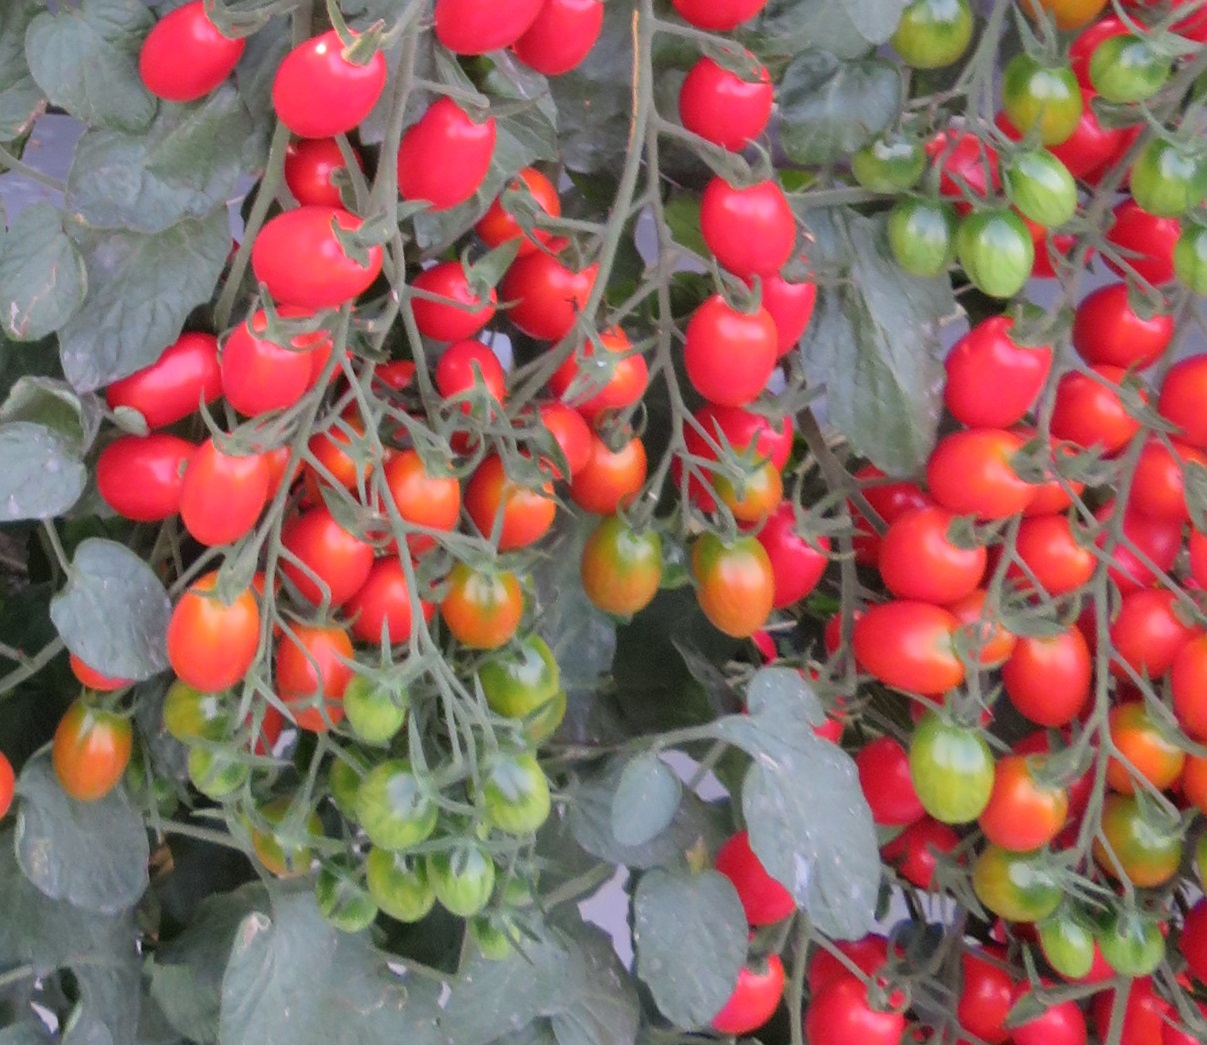green: (904, 713, 996, 825), (1089, 794, 1190, 885), (353, 756, 447, 847), (992, 136, 1084, 229), (999, 59, 1084, 152), (960, 847, 1072, 917), (1085, 30, 1192, 99), (1127, 133, 1207, 214), (480, 745, 551, 829), (252, 798, 324, 879), (881, 192, 948, 275), (890, 1, 974, 68), (488, 638, 561, 713), (428, 847, 497, 926), (186, 724, 259, 792), (364, 843, 427, 922), (970, 212, 1030, 293), (1104, 913, 1165, 985), (340, 670, 401, 740), (854, 138, 933, 189), (1041, 909, 1095, 982)
orange: (168, 573, 272, 692), (51, 692, 138, 802), (275, 614, 353, 730), (467, 454, 557, 547), (983, 754, 1070, 851), (580, 520, 659, 622), (1101, 700, 1186, 794), (385, 452, 460, 551), (702, 533, 770, 643), (444, 560, 530, 646), (576, 422, 647, 517), (702, 447, 784, 517), (309, 427, 379, 494)
red: (907, 423, 1062, 514), (271, 27, 386, 138), (251, 205, 381, 299), (943, 319, 1051, 430), (134, 1, 246, 102), (401, 98, 496, 212), (675, 55, 782, 157), (176, 426, 265, 546), (105, 332, 223, 422), (878, 509, 990, 599), (218, 310, 313, 417), (699, 175, 795, 278), (503, 240, 600, 342), (1067, 279, 1180, 365), (682, 292, 770, 396), (853, 609, 965, 690), (280, 511, 372, 610), (1010, 631, 1094, 732), (758, 501, 832, 613), (843, 460, 925, 557), (95, 433, 184, 522), (708, 932, 785, 1032), (715, 830, 796, 925), (1107, 586, 1186, 679), (1099, 201, 1183, 286), (806, 974, 906, 1045), (1055, 369, 1148, 444), (477, 170, 561, 255), (676, 402, 793, 460), (858, 736, 928, 831), (953, 943, 1017, 1044), (525, 1, 609, 73), (428, 1, 542, 53), (1010, 979, 1089, 1045), (1127, 458, 1207, 518), (431, 337, 507, 400), (772, 270, 820, 369), (1171, 631, 1206, 750), (1096, 986, 1167, 1045), (1166, 353, 1207, 443), (668, 1, 770, 31)
